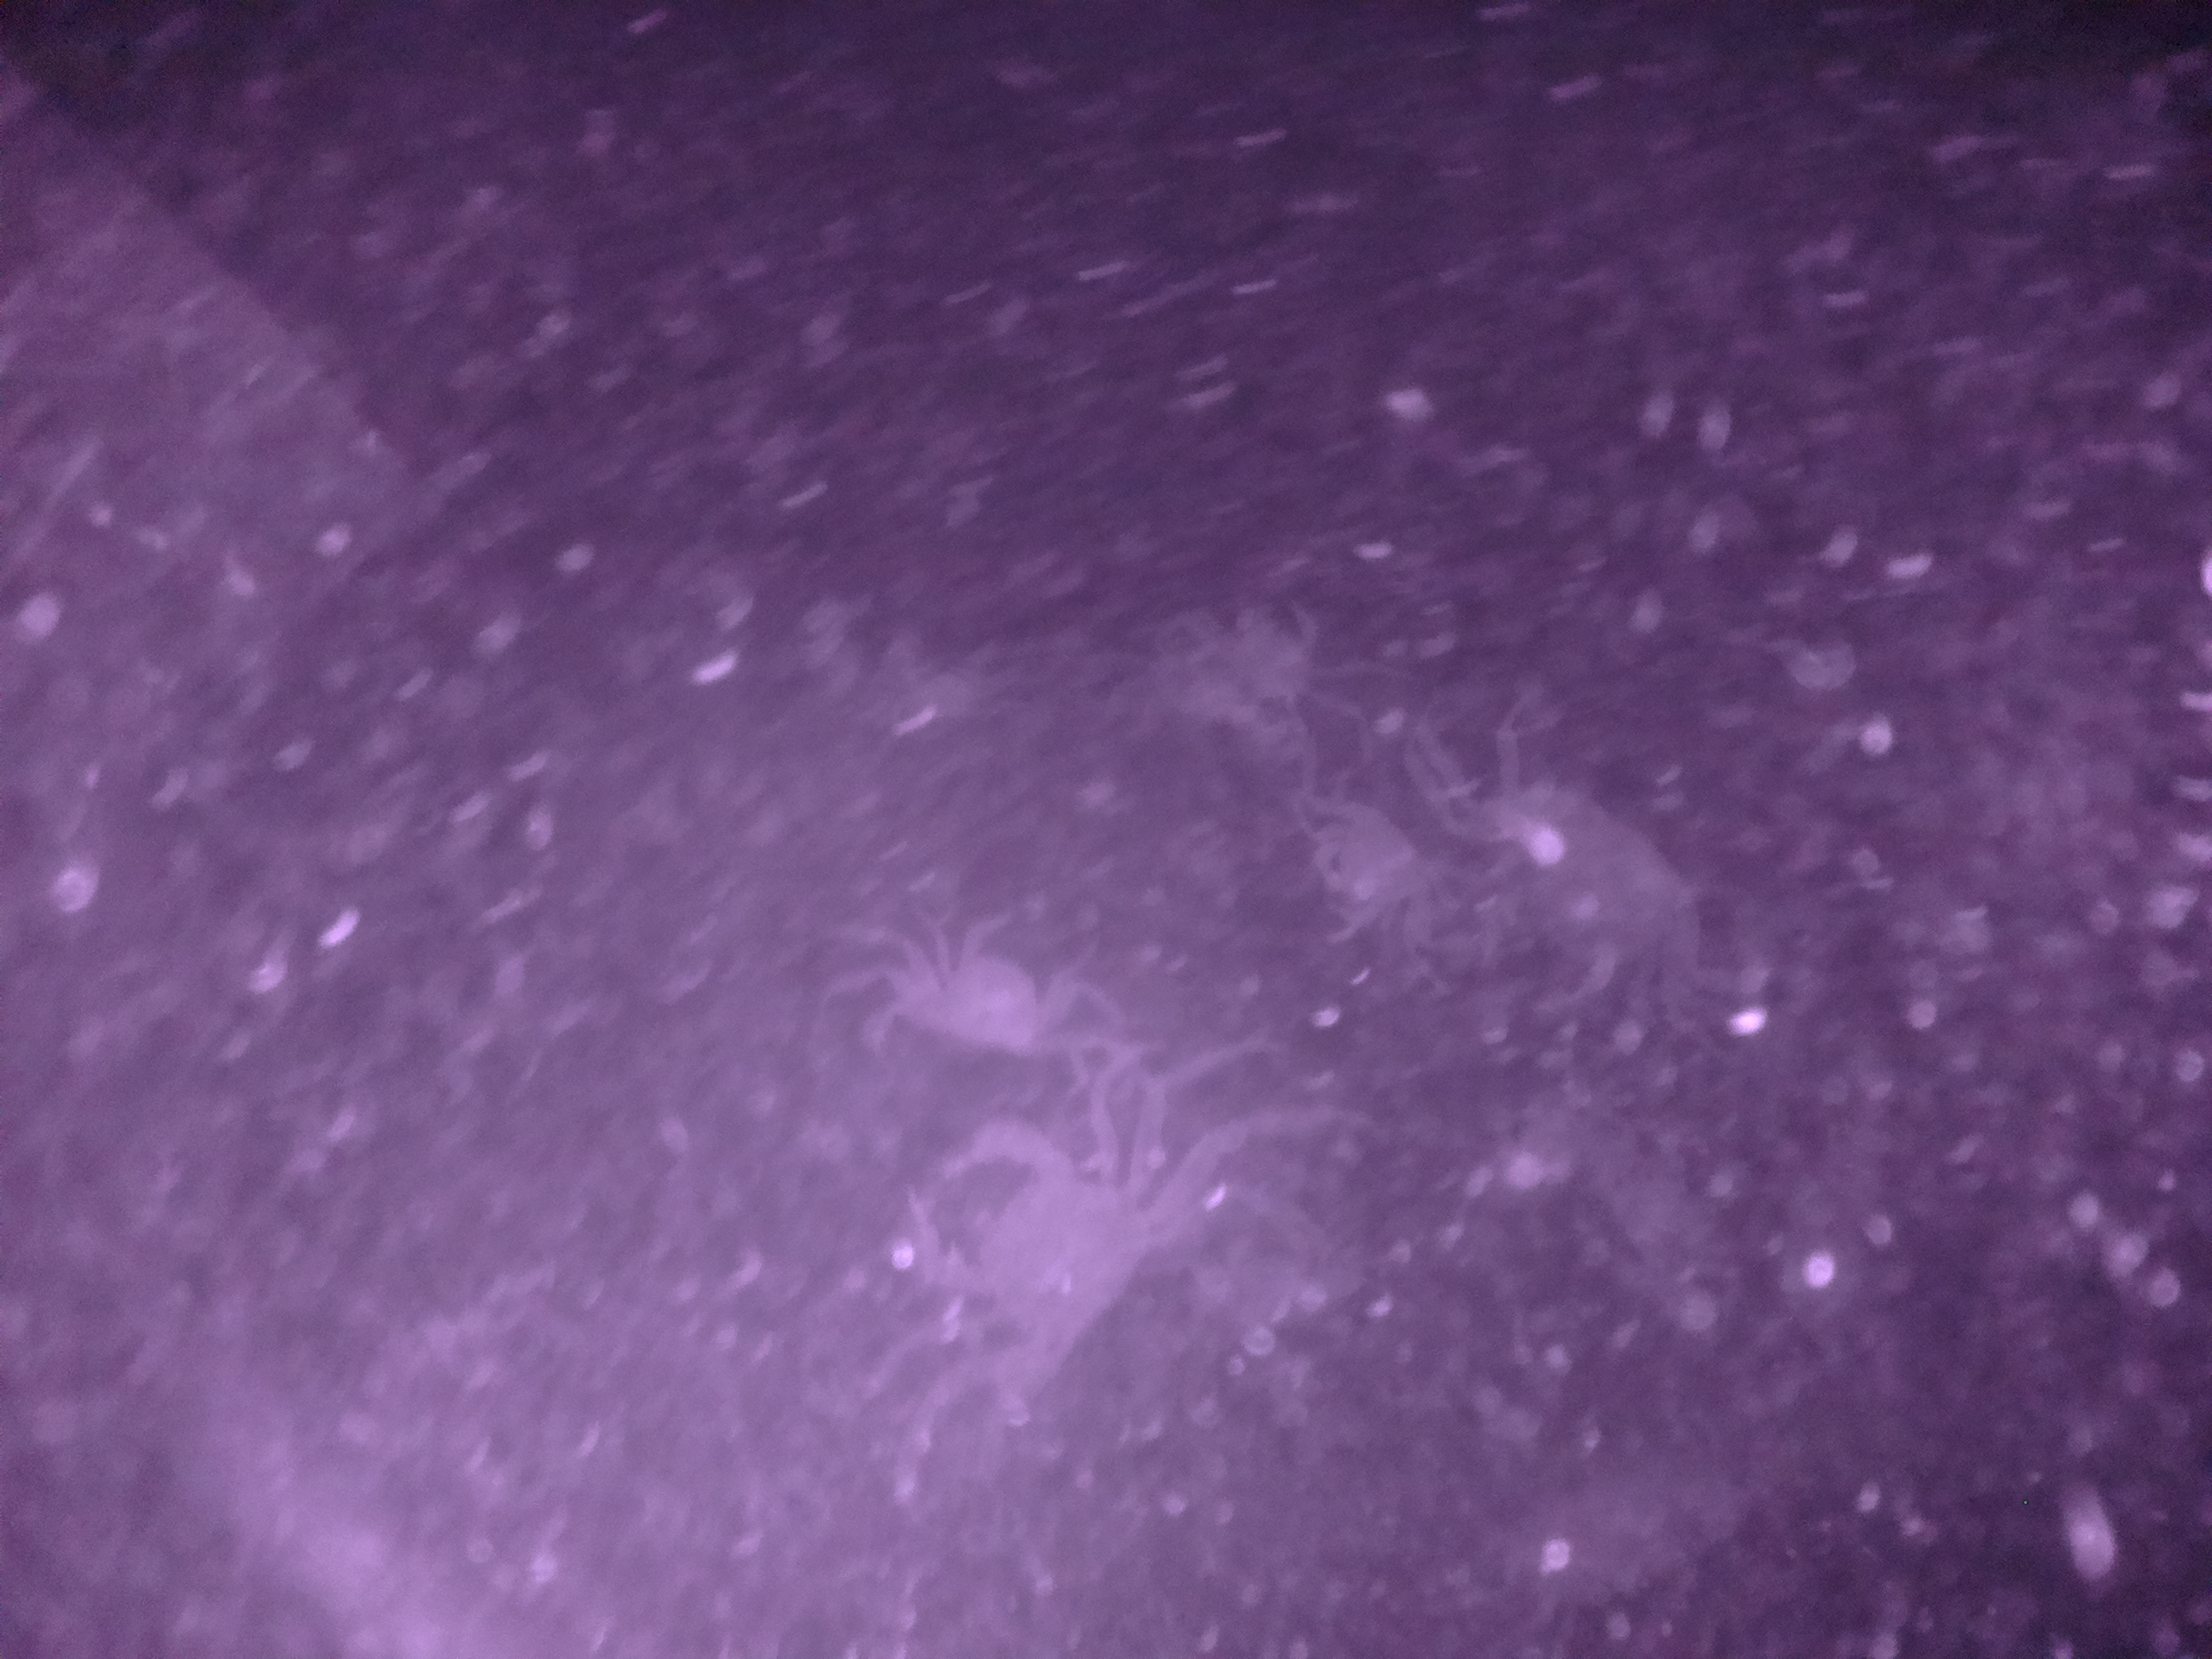Crab: (894, 1094, 1188, 1380), (900, 892, 1104, 1073)
